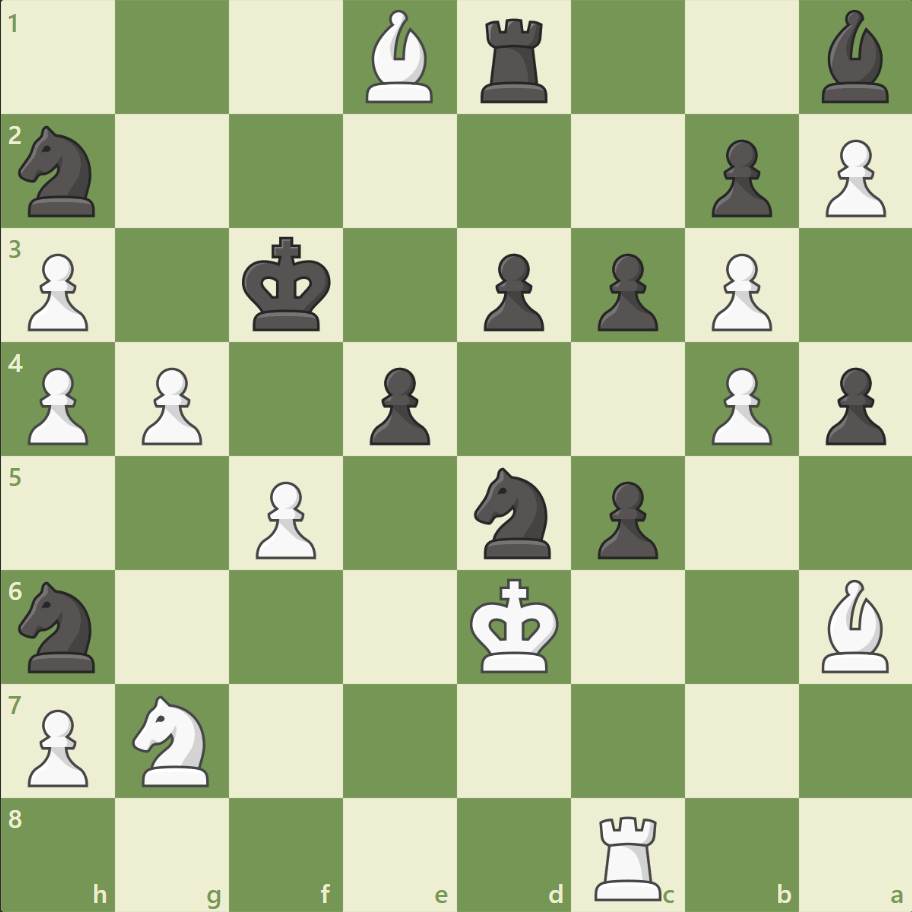B: (358, 6, 442, 109), (812, 574, 896, 676)
K: (465, 571, 565, 679)
N: (124, 688, 222, 791)
P: (20, 700, 95, 791), (247, 473, 322, 564), (701, 359, 776, 450), (133, 359, 208, 450), (20, 359, 95, 450), (701, 246, 776, 337), (20, 246, 95, 337), (815, 132, 889, 223)
R: (587, 806, 670, 904)
b: (812, 6, 896, 109)
k: (238, 231, 338, 339)
n: (465, 461, 562, 564), (11, 575, 108, 677), (11, 121, 108, 223)
p: (474, 246, 549, 337), (701, 132, 776, 223), (588, 473, 662, 564), (815, 359, 889, 450), (361, 359, 435, 450), (588, 246, 662, 337)
r: (473, 12, 556, 109)
